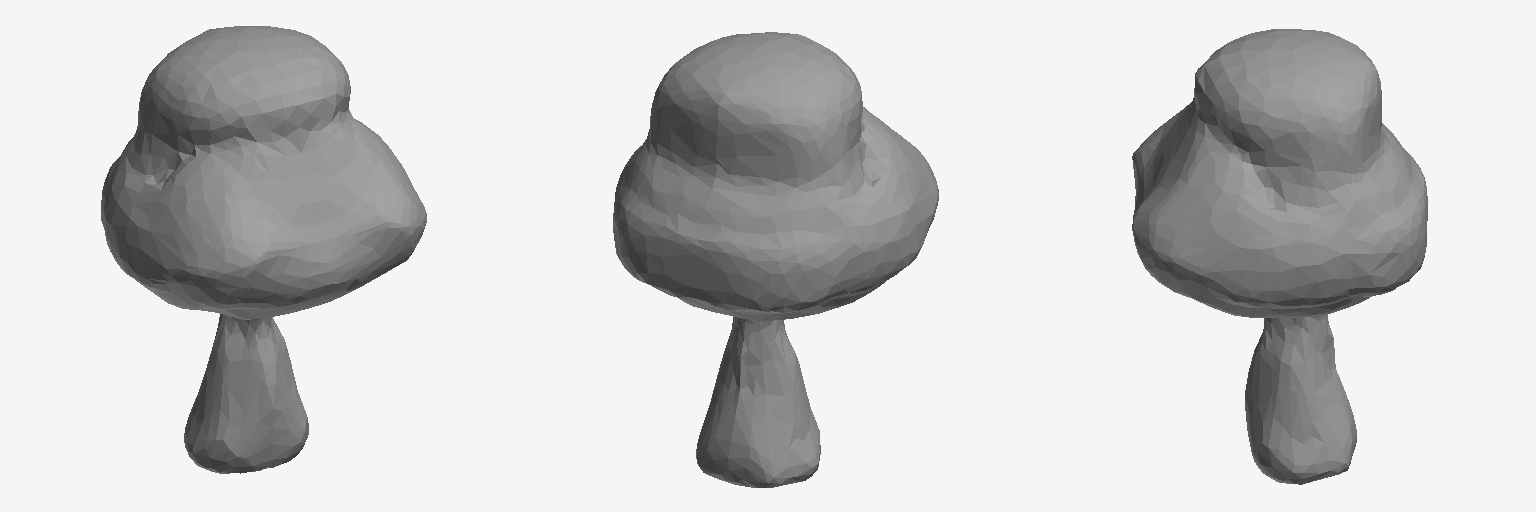
File: tree_model_color_lite.obj
3 views of the same model, side by side, from view 1: azimuth 30°, elevation 25°; view 2: azimuth 150°, elevation 25°; view 3: azimuth 270°, elevation 25° (orthographic).
Parts seen in each view (by area): view 1: tree_model_color.001; view 2: tree_model_color.001; view 3: tree_model_color.001.
Boxes of the visible parts, x1=… form: tree_model_color.001: x1=101, y1=26, x2=426, y2=473; tree_model_color.001: x1=613, y1=32, x2=938, y2=487; tree_model_color.001: x1=1132, y1=29, x2=1427, y2=484.
Size of the model in its own units: 1.35 by 1.99 by 1.27.